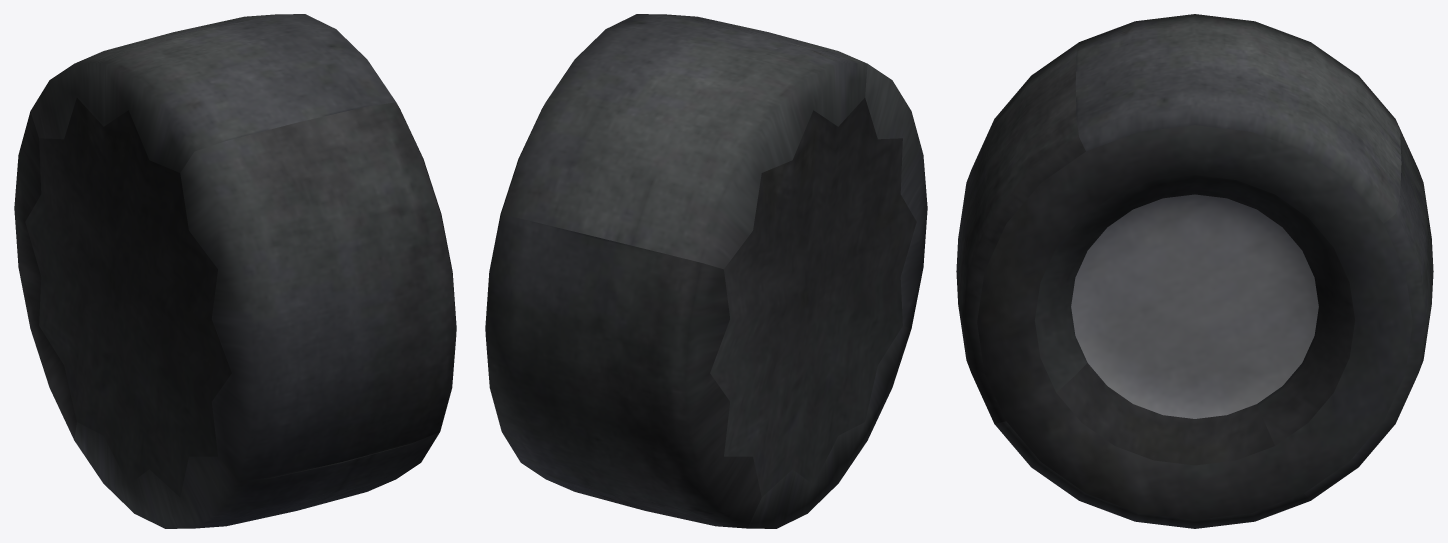
File: Kart_FrontWheel.fbx
The picture shows the model from 3 angles, left to right: view 1: azimuth 30°, elevation 25°; view 2: azimuth 150°, elevation 25°; view 3: azimuth 270°, elevation 25°; orthographic projection. The views are drawn at different scales.
Parts seen in each view (by area): view 1: FrontWheel; view 2: FrontWheel; view 3: FrontWheel.
Part boxes in pixels (box(x1,y1,x2,y2)): FrontWheel: box(14, 14, 456, 528); FrontWheel: box(485, 14, 927, 528); FrontWheel: box(956, 14, 1433, 528).
Bounding box in the file's own units: 0.1223 × 0.2368 × 0.2368.
